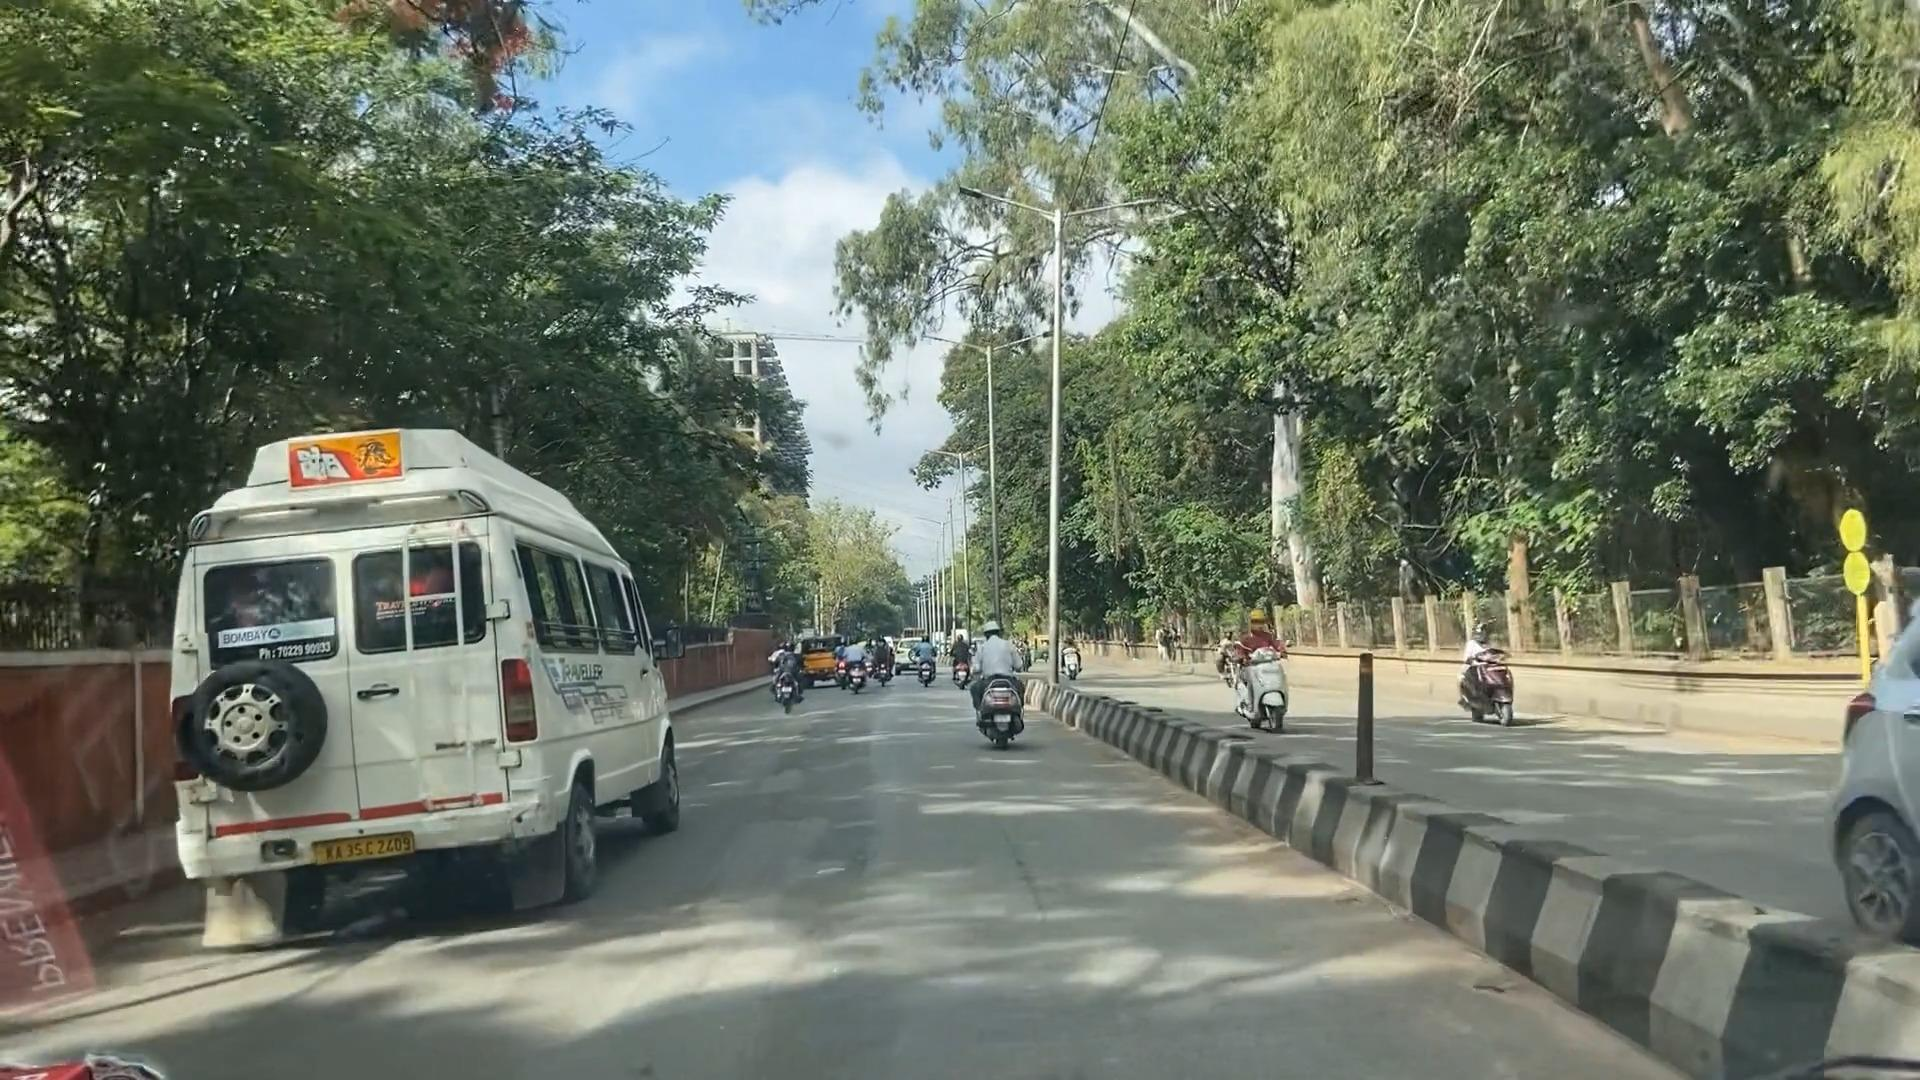HMV: (171, 450, 562, 897)
LMV: (963, 608, 1030, 761), (754, 634, 810, 708)
